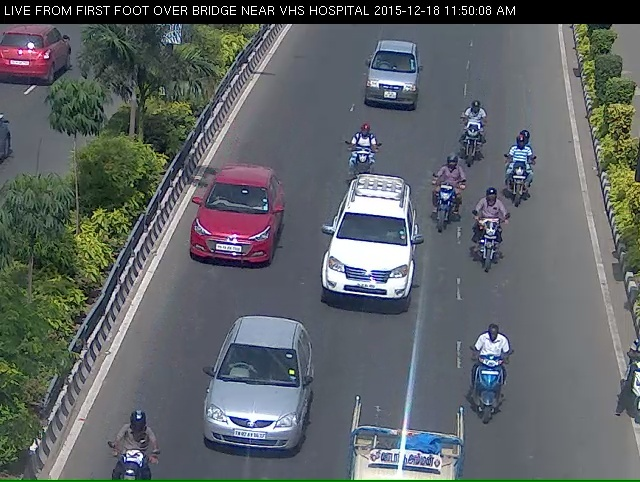Car: (202, 337, 311, 472), (336, 188, 408, 324), (193, 175, 275, 282), (358, 42, 417, 116)
Person: (468, 355, 517, 449), (503, 146, 543, 219), (473, 203, 507, 287), (429, 169, 463, 248), (456, 112, 486, 176), (343, 137, 378, 191)
